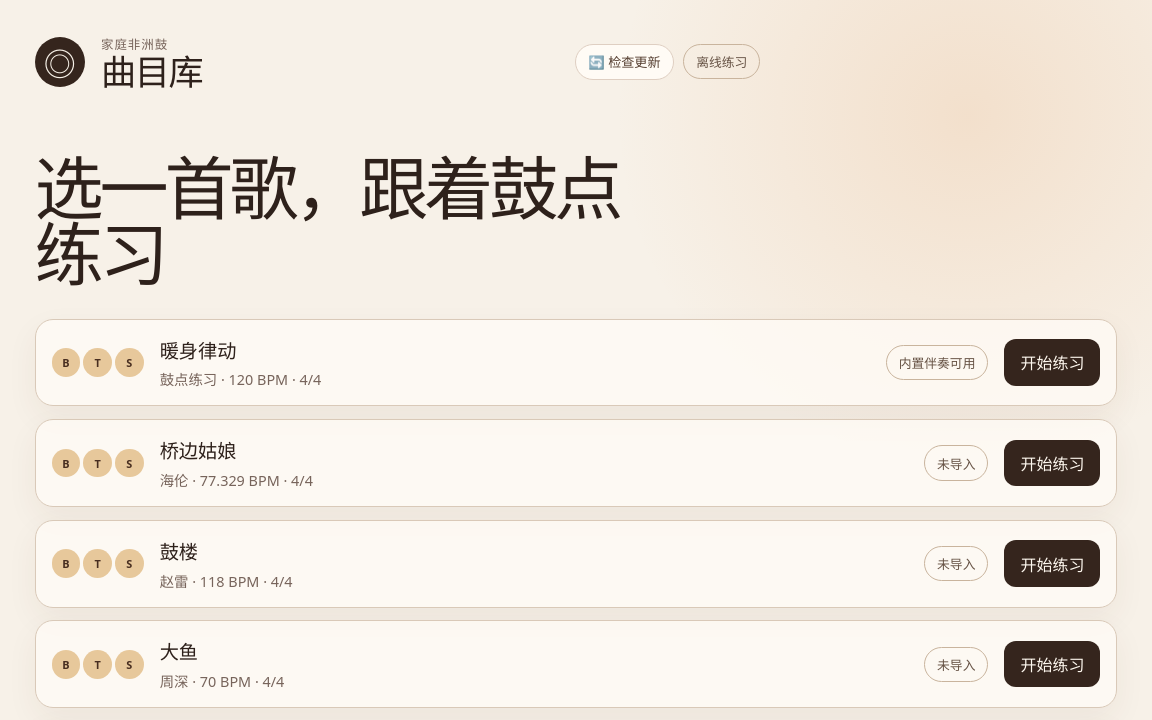
Test: App › opens the demo song from the library into landscape practice controls
The image size is (1152, 720).
Expected: the heading "曲目库" is shown, [101,54,202,89]
Expected: the heading "暖身律动" is shown, [160,336,236,364]
What coordinates should you click on to do the following:
click the button with aria-label "开始练习 暖身律动"
I would click on:
 (1052, 362)
Its box is [1004,339,1100,386].
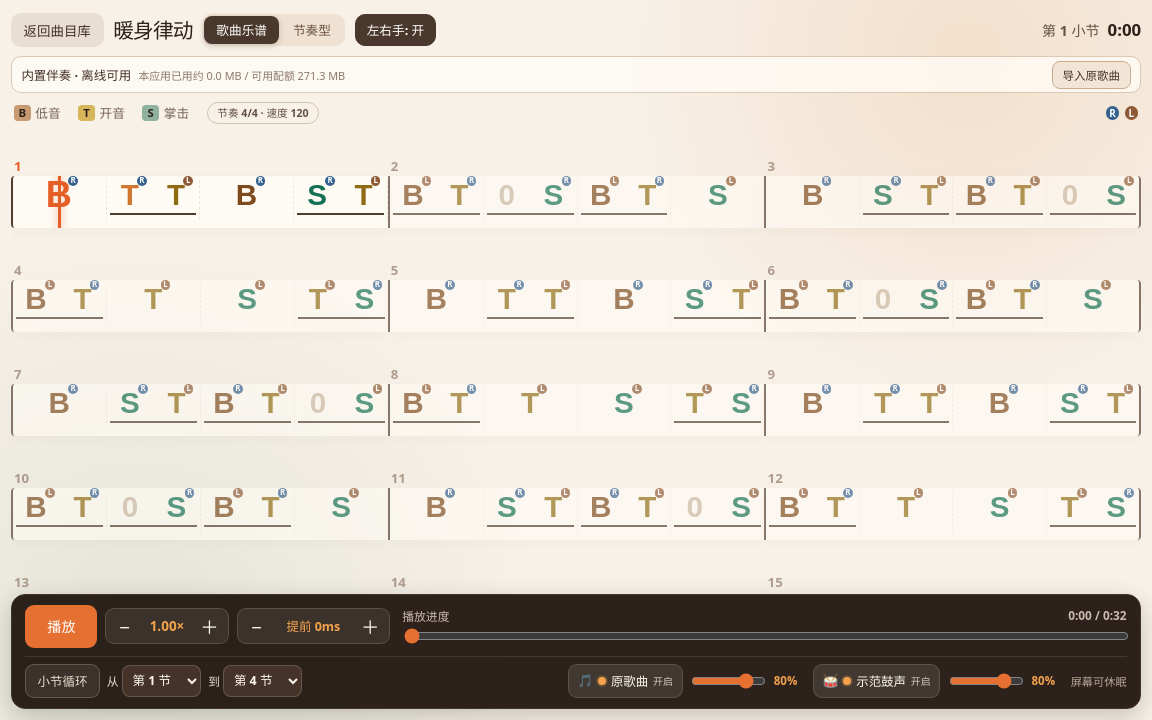
Result: the heading "暖身律动" is shown at [113,20,193,40]
Result: the element named "可跟练鼓谱" is shown
